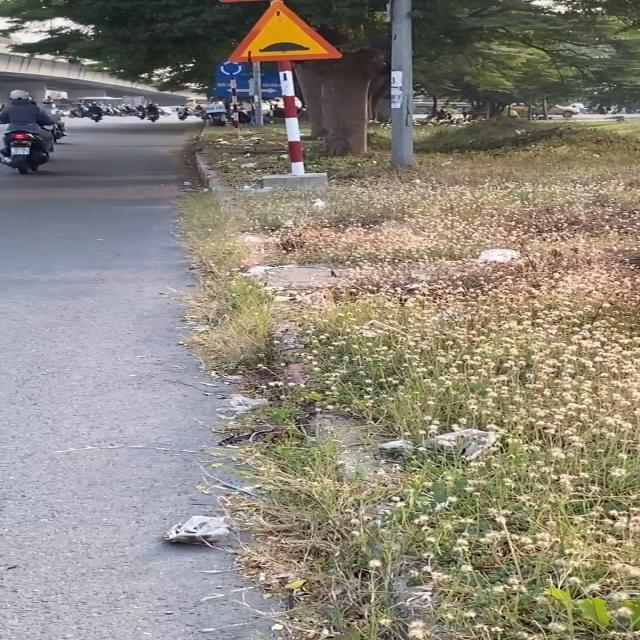221-duong-go-ghe: (228, 0, 344, 63)
303-noi-giao-nhau-chay-theo-vong-xuyen: (218, 59, 244, 78)
